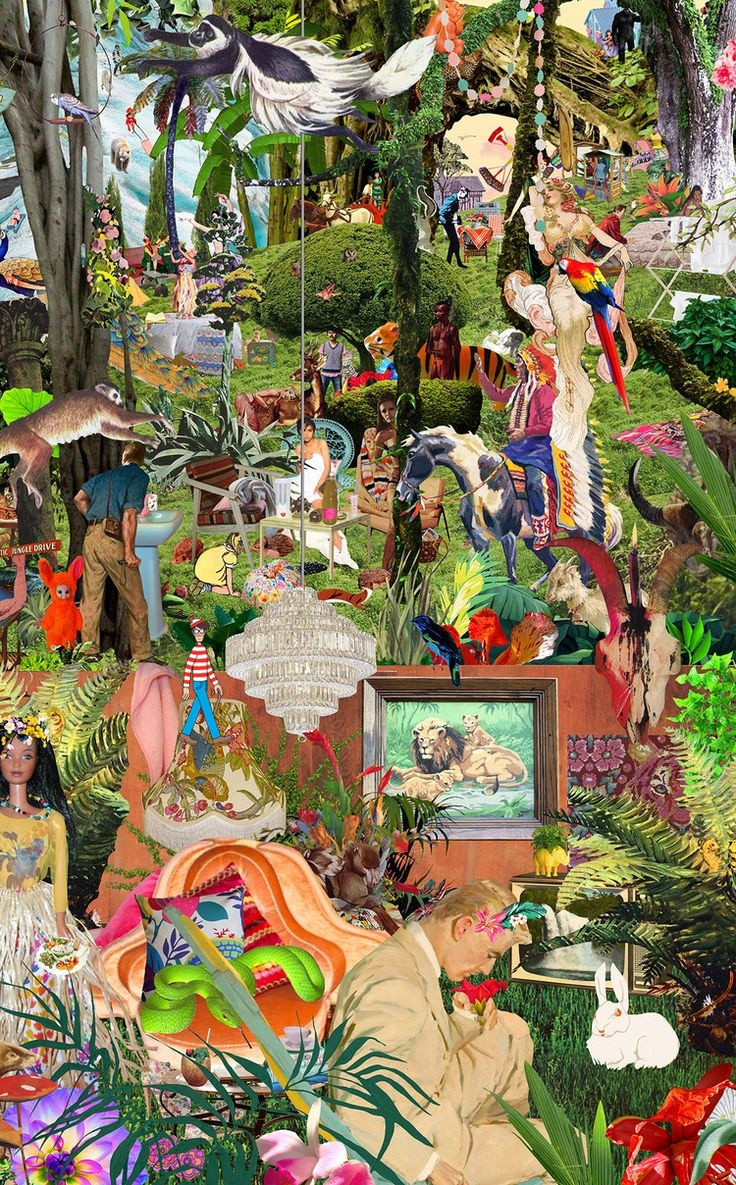waldo: (178, 616, 233, 746)
